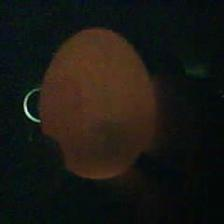fertile: (36, 26, 162, 187)
